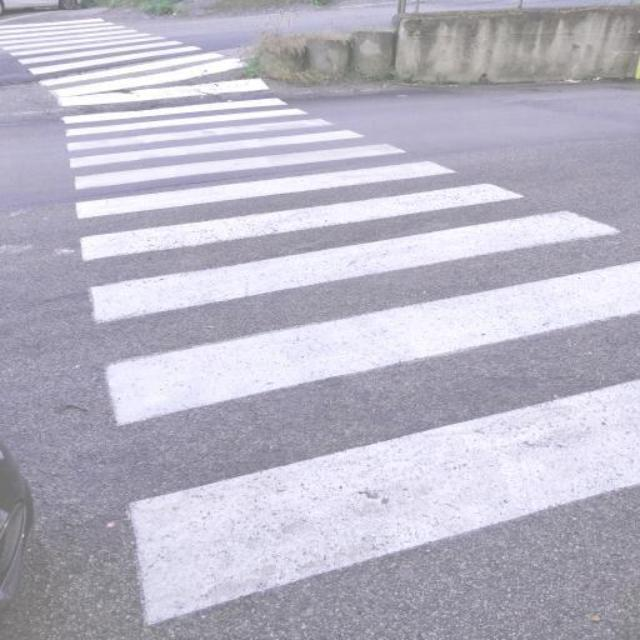sidewalk: (0, 10, 640, 640)
